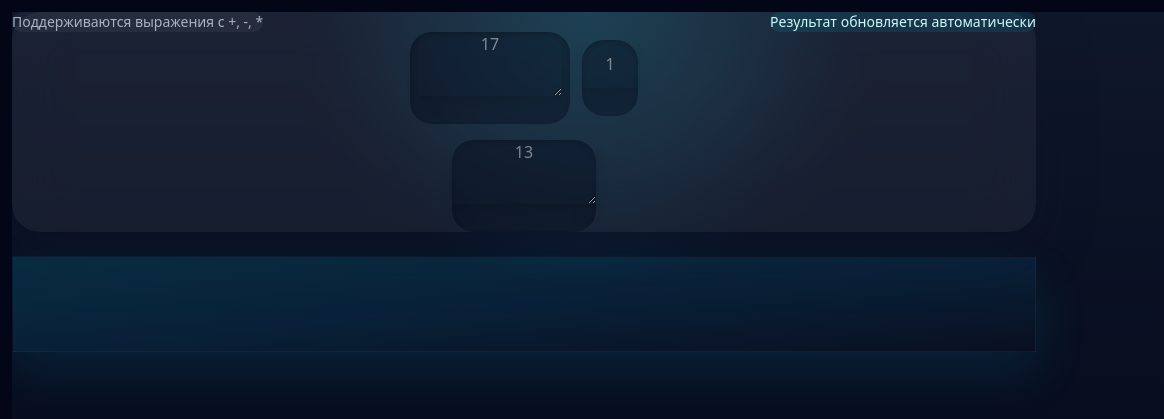
Test: Mod exponentiation UI Test › Mod exponentiation should display the correct result
This screenshot has width=1164, height=419.
Type "13" into the text box with placeholder "17". click: (490, 64)
box: [418, 32, 562, 96]
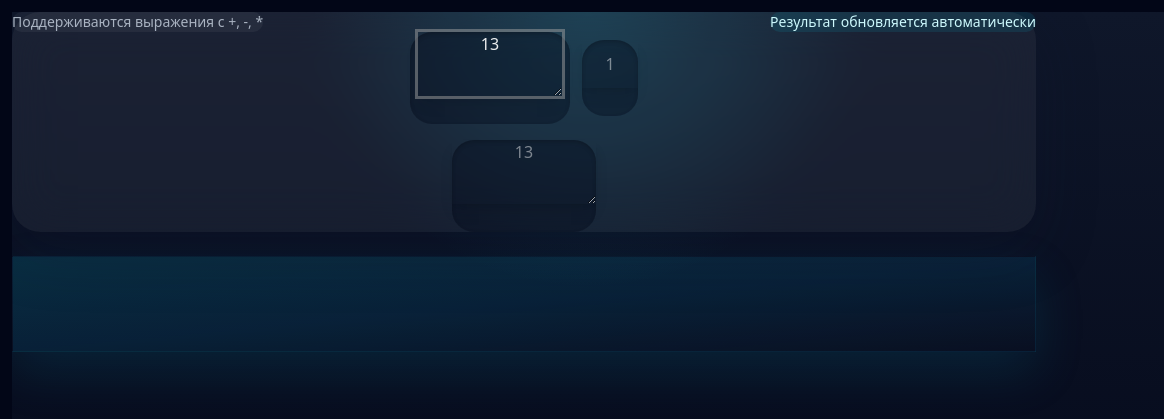
Type "51" into the text box with placeholder "13". click: (524, 172)
box: [452, 140, 596, 204]
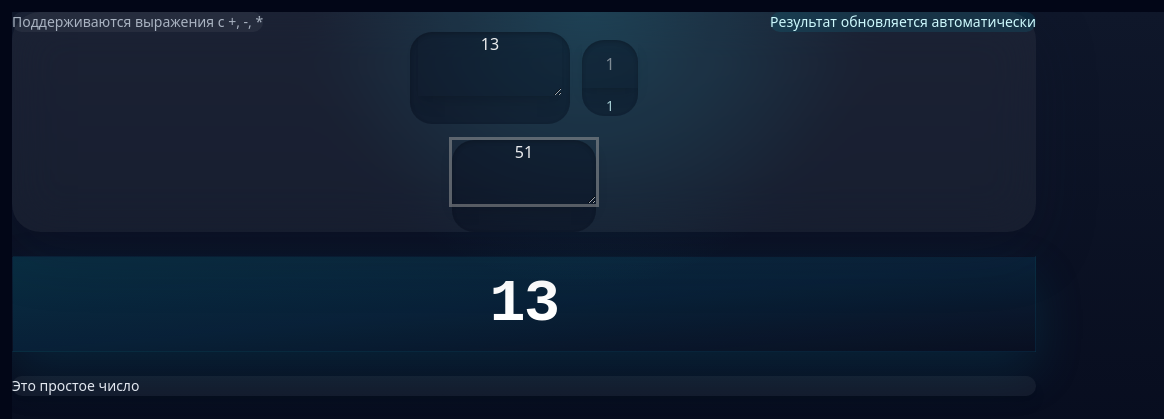
Type "-1" into the field with placeholder "1". click: (610, 64)
box: [582, 40, 638, 88]
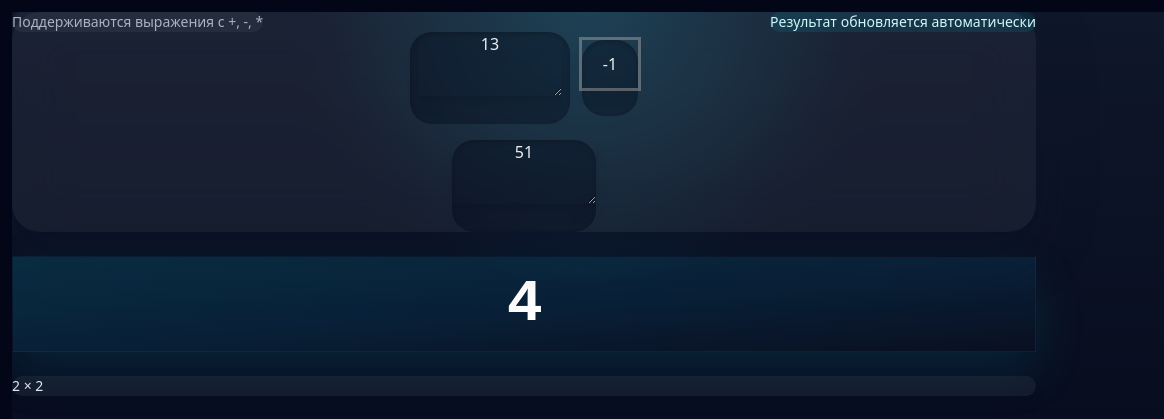
Expected: the button with test id "result" reads "4", [12, 256, 1036, 352]
